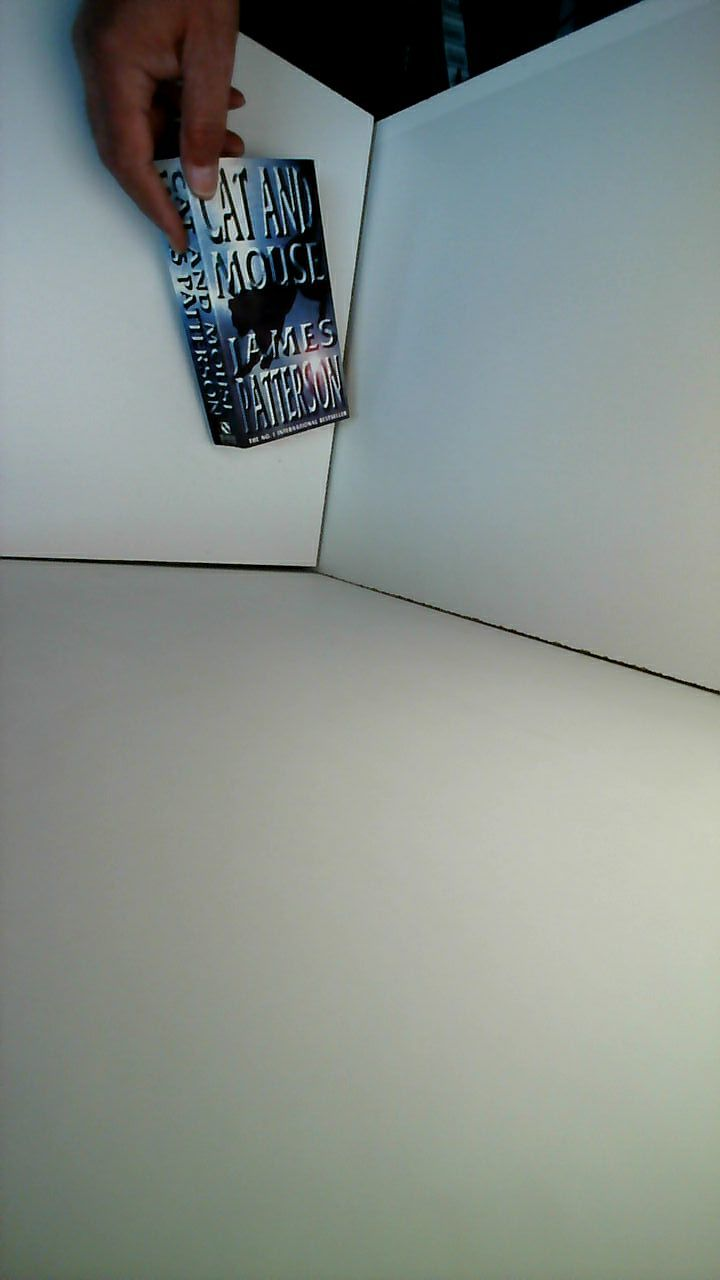book: (121, 127, 381, 478)
